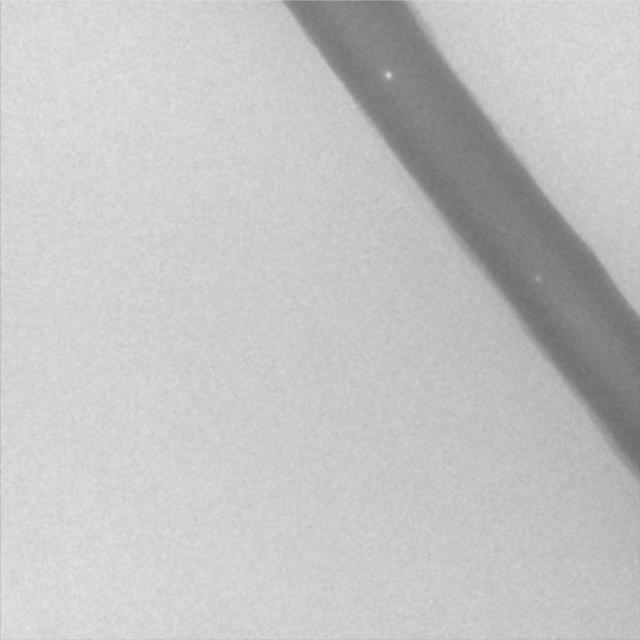air hole: (382, 69, 393, 80)
